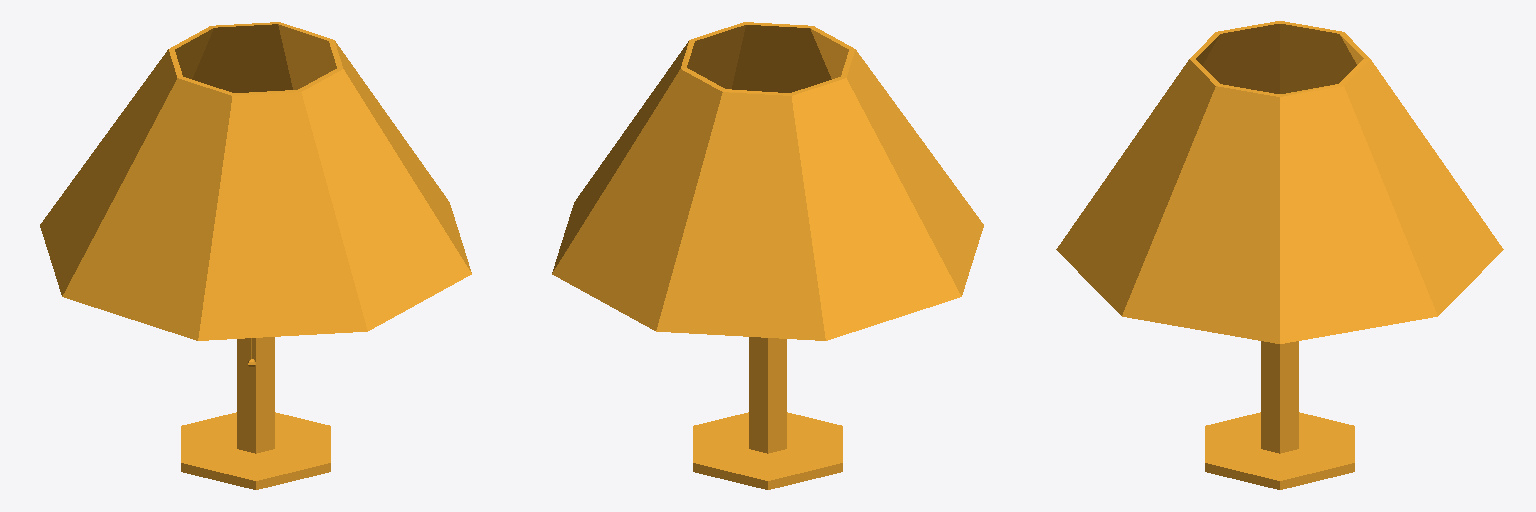
File: lamp.obj
The picture shows the model from 3 angles: view 1: azimuth 30°, elevation 25°; view 2: azimuth 150°, elevation 25°; view 3: azimuth 270°, elevation 25°; orthographic projection.
Visible parts, largest first — view 1: pCylinder2_Corda_0; view 2: pCylinder2_Corda_0; view 3: pCylinder2_Corda_0.
Part boxes in pixels (x1,y1,x2,y2): pCylinder2_Corda_0: (40,22,471,489); pCylinder2_Corda_0: (552,22,983,489); pCylinder2_Corda_0: (1056,21,1503,489).
Bounding box in the file's own units: 0.5653 × 0.5504 × 0.5653.